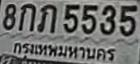3: (99, 4, 115, 34)
5: (119, 4, 136, 36), (81, 4, 97, 33), (63, 3, 79, 32)
8: (2, 3, 15, 29)
A01: (18, 3, 35, 30)
A32: (37, 3, 56, 32)
BKK: (10, 40, 117, 62)
